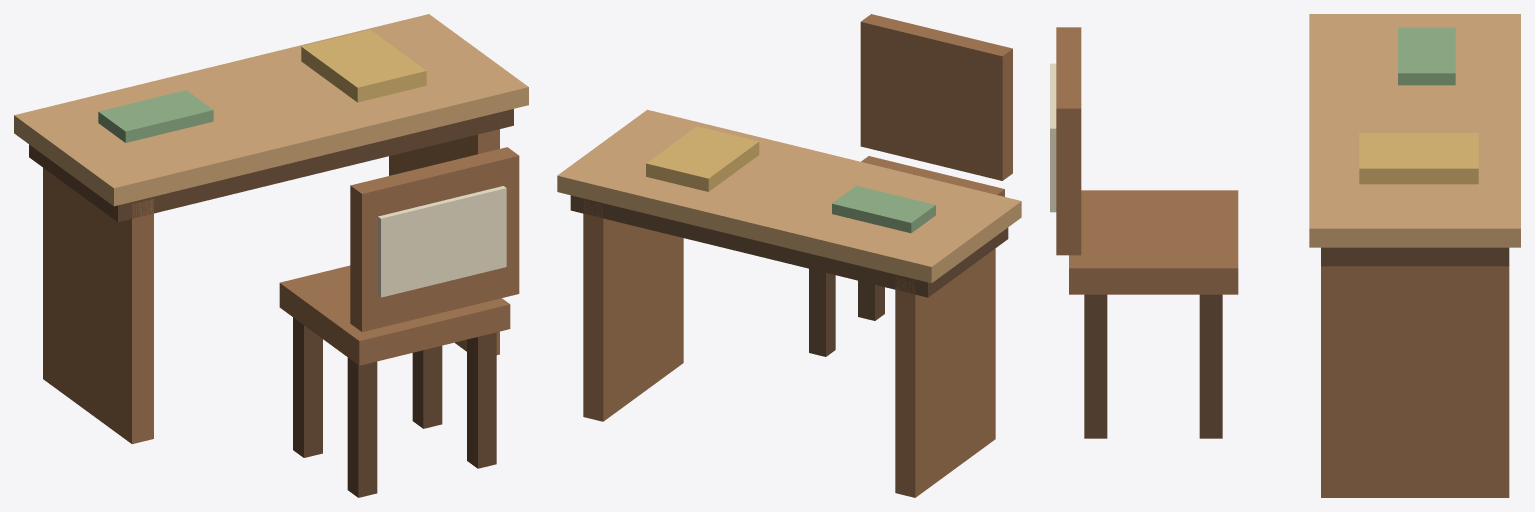
Rendered from window-desk.glb.
3 views of the same model, side by side, from view 1: azimuth 30°, elevation 25°; view 2: azimuth 150°, elevation 25°; view 3: azimuth 270°, elevation 25° (orthographic). The views are drawn at different scales.
Visible parts, largest first — view 1: window-desk_wood, window-desk_woodLight, window-desk_woodDark, window-desk_cream, window-desk_bookGold, window-desk_sage; view 2: window-desk_wood, window-desk_woodLight, window-desk_woodDark, window-desk_bookGold, window-desk_sage; view 3: window-desk_wood, window-desk_woodLight, window-desk_woodDark, window-desk_bookGold, window-desk_sage, window-desk_cream.
Boxes of the visible parts, x1,y1,x2,y2 form: window-desk_wood: [43, 119, 519, 444]; window-desk_woodLight: [14, 14, 528, 206]; window-desk_woodDark: [29, 109, 513, 497]; window-desk_cream: [378, 186, 506, 297]; window-desk_bookGold: [301, 29, 426, 102]; window-desk_sage: [98, 90, 213, 142]; window-desk_wood: [583, 14, 1012, 497]; window-desk_woodLight: [557, 109, 1021, 283]; window-desk_woodDark: [570, 195, 1008, 356]; window-desk_bookGold: [646, 126, 759, 191]; window-desk_sage: [832, 185, 935, 233]; window-desk_wood: [1056, 27, 1509, 497]; window-desk_woodLight: [1309, 14, 1520, 247]; window-desk_woodDark: [1084, 247, 1509, 438]; window-desk_bookGold: [1359, 133, 1478, 184]; window-desk_sage: [1398, 27, 1455, 85]; window-desk_cream: [1050, 63, 1056, 212].
Bounding box in the file's own units: 1.32 × 0.96 × 1.22.
